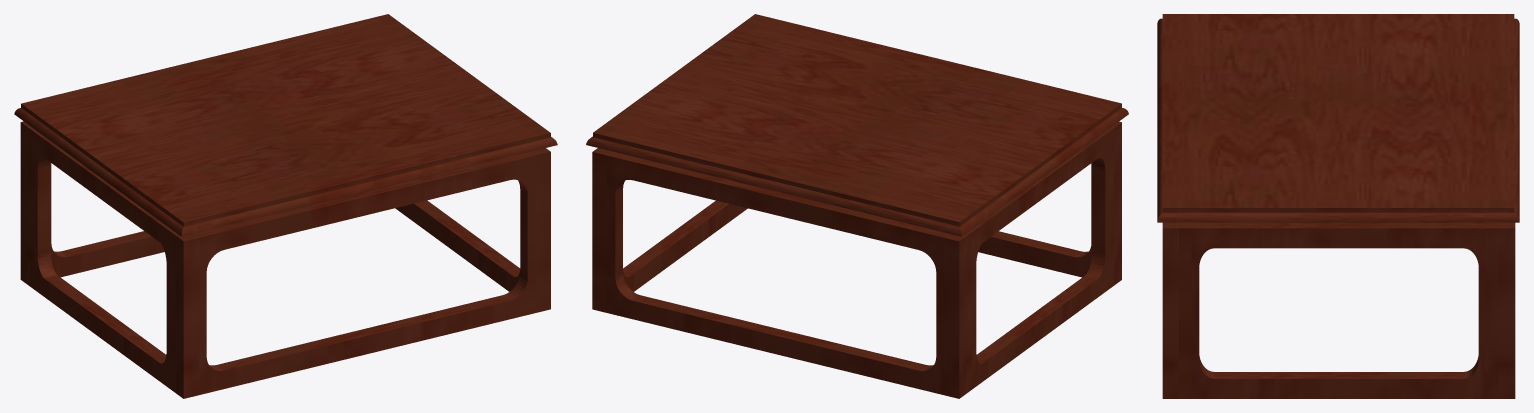
Rendered from desk.FBX.
3 renders of one model, left to right at view 1: azimuth 30°, elevation 25°; view 2: azimuth 150°, elevation 25°; view 3: azimuth 270°, elevation 25°, orthographic. The views are drawn at different scales.
Parts seen in each view (by area): view 1: desk; view 2: desk; view 3: desk.
Part boxes in pixels (x1,y1,x2,y2): desk: (14, 14, 557, 398); desk: (586, 14, 1128, 398); desk: (1157, 14, 1519, 398).
Size of the model in its own units: 18.47 by 8.28 by 14.23.
